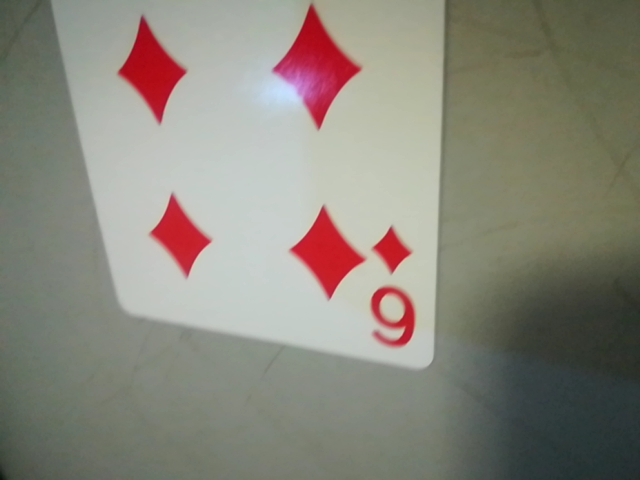fk 6: (357, 216, 434, 356)
